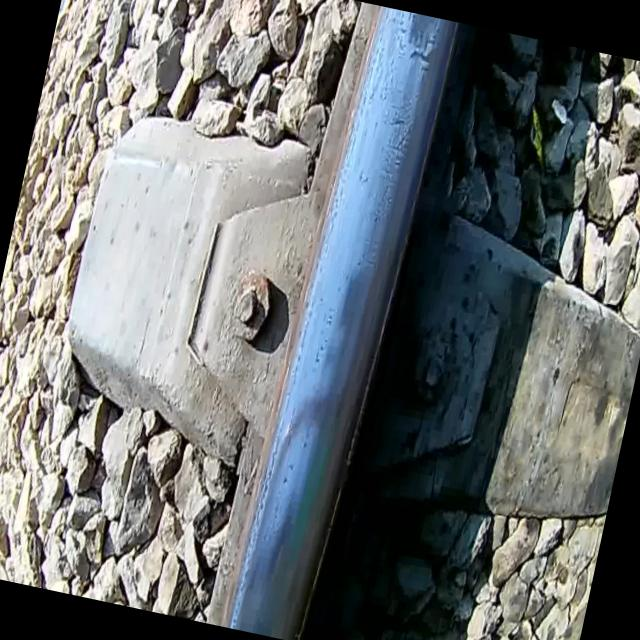Squats: (385, 9, 452, 76)
